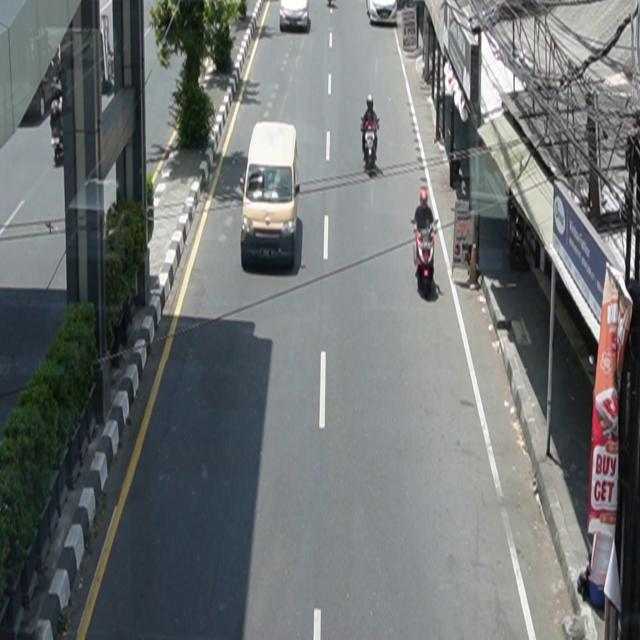car: (241, 121, 301, 271), (280, 1, 310, 32), (367, 1, 398, 26)
